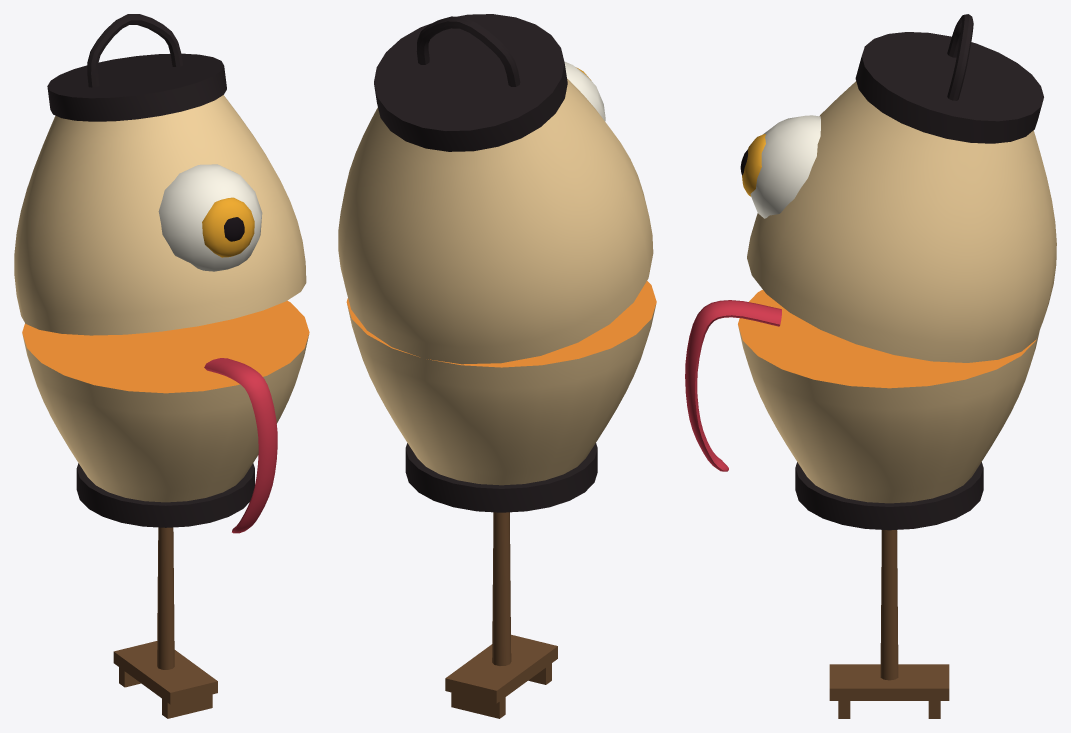
The model's file is chochin_obake.glb.
3 renders of one model, left to right at view 1: azimuth 30°, elevation 25°; view 2: azimuth 150°, elevation 25°; view 3: azimuth 270°, elevation 25°, orthographic. The views are drawn at different scales.
Parts seen in each view (by area): view 1: geometry_0; view 2: geometry_0; view 3: geometry_0.
Part boxes in pixels (x1,y1,x2,y2): geometry_0: (14, 14, 309, 718); geometry_0: (338, 14, 656, 718); geometry_0: (685, 14, 1056, 718).
Bounding box in the file's own units: 0.4568 × 1.13 × 0.5525.
Materials: 1 (1 with a texture image).
